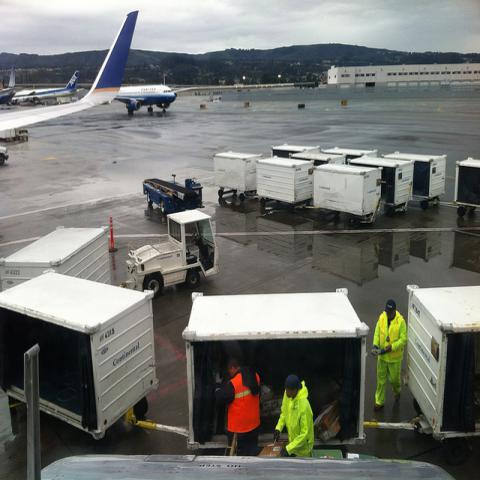truck: (126, 208, 220, 298), (143, 178, 205, 214)
